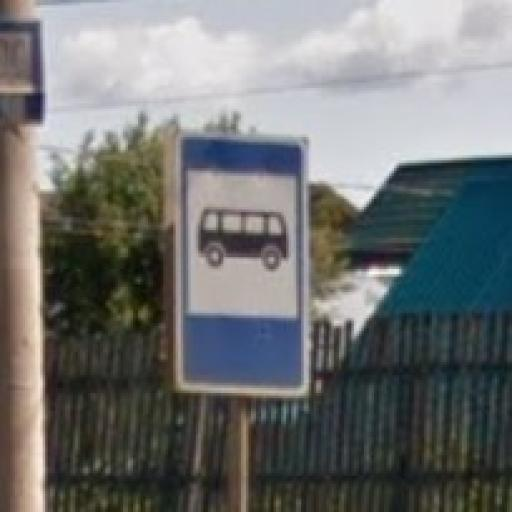traffic_sign: (175, 133, 311, 399)
